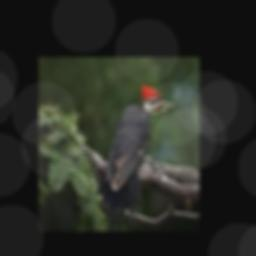Woodpecker: (97, 82, 177, 230)
